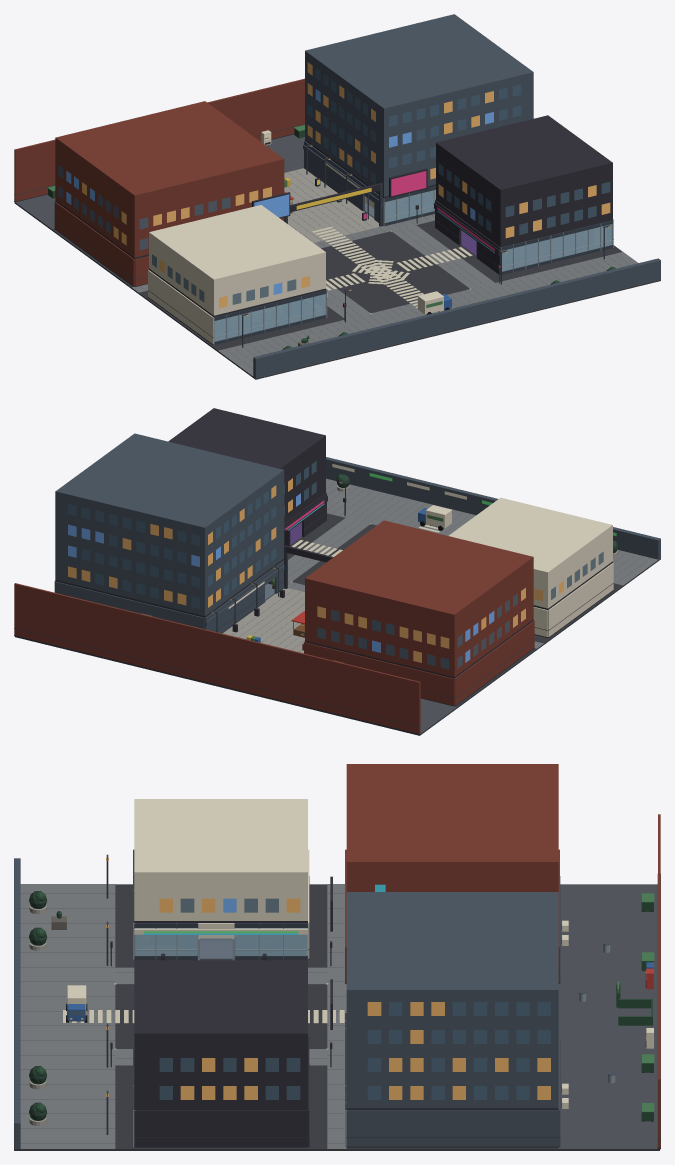
The model's file is lv_shibuya.glb.
3 renders of one model, top to bottom at view 1: azimuth 30°, elevation 25°; view 2: azimuth 150°, elevation 25°; view 3: azimuth 270°, elevation 25°, orthographic. The views are drawn at different scales.
Visible parts, largest first — view 1: UPPER_MAIN, BASE_MAIN, MOVER_TRUCK; view 2: UPPER_MAIN, BASE_MAIN, MOVER_TRUCK; view 3: UPPER_MAIN, BASE_MAIN, MOVER_TRUCK.
Boxes of the visible parts, x1,y1,x2,y2 form: UPPER_MAIN: [14, 14, 613, 337]; BASE_MAIN: [14, 124, 660, 379]; MOVER_TRUCK: [417, 291, 451, 314]; UPPER_MAIN: [14, 408, 613, 726]; BASE_MAIN: [14, 457, 660, 735]; MOVER_TRUCK: [418, 505, 451, 530]; UPPER_MAIN: [133, 764, 660, 1138]; BASE_MAIN: [14, 854, 660, 1150]; MOVER_TRUCK: [66, 985, 87, 1022].
Bounding box in the file's own units: 65.04 × 18.2 × 67.12.
Materials: 3 (3 with a texture image).
